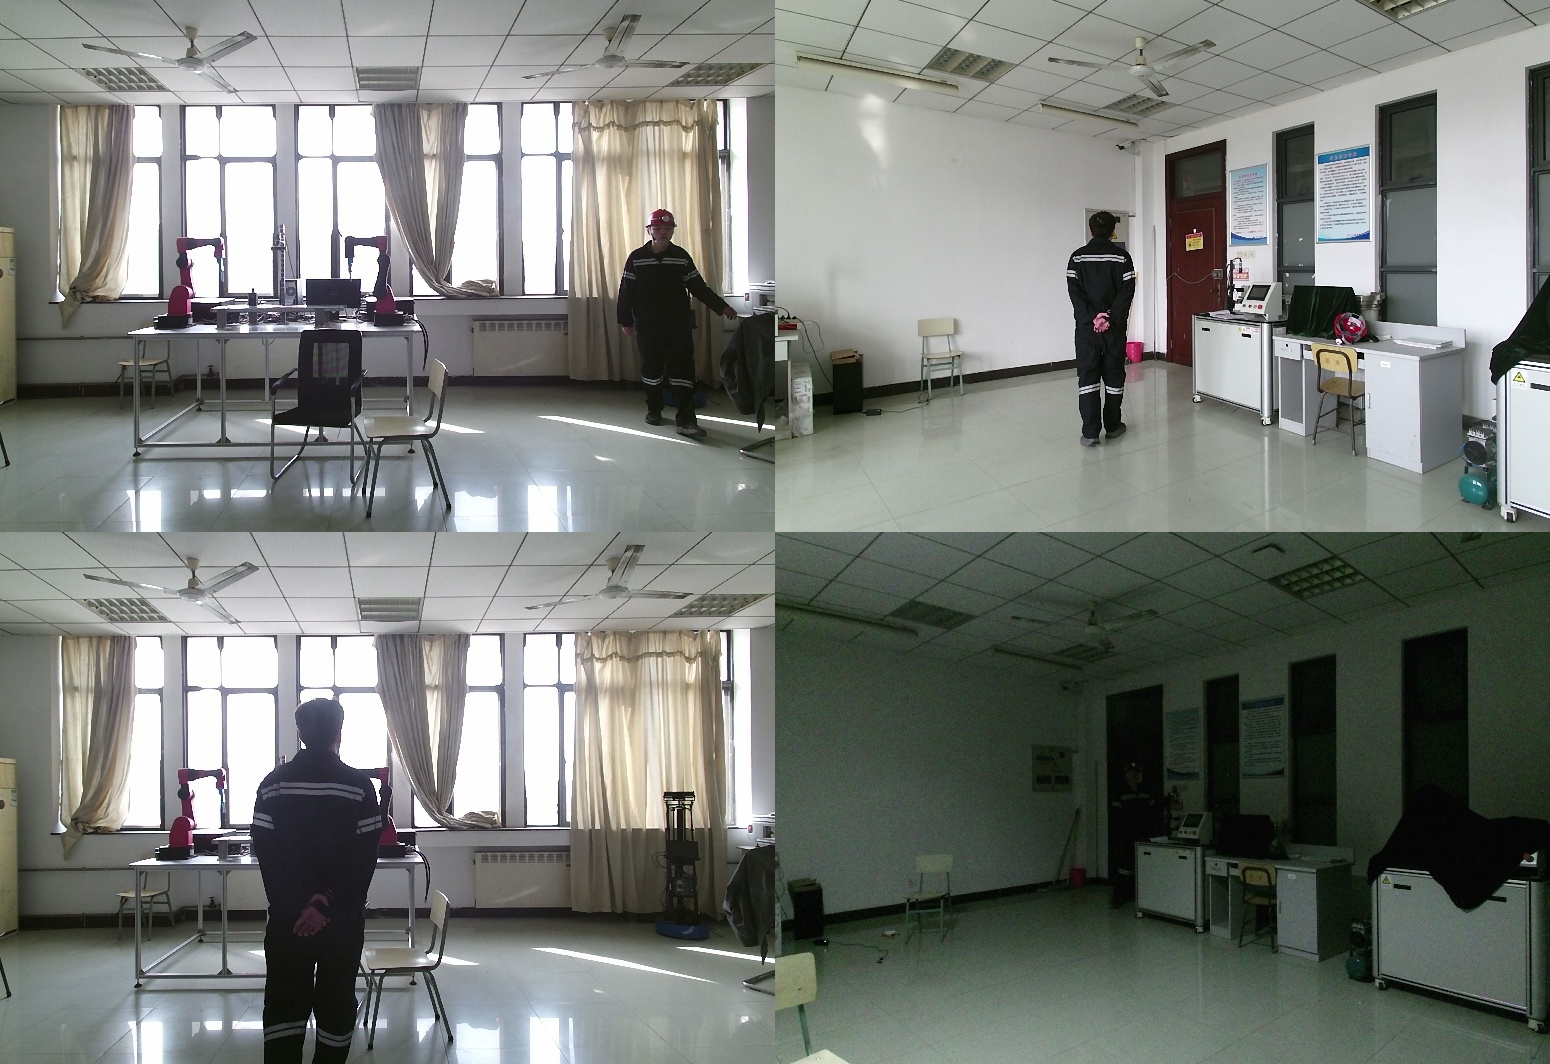person: (249, 699, 398, 1064), (620, 209, 725, 433), (1062, 211, 1144, 450), (1106, 763, 1168, 910)
